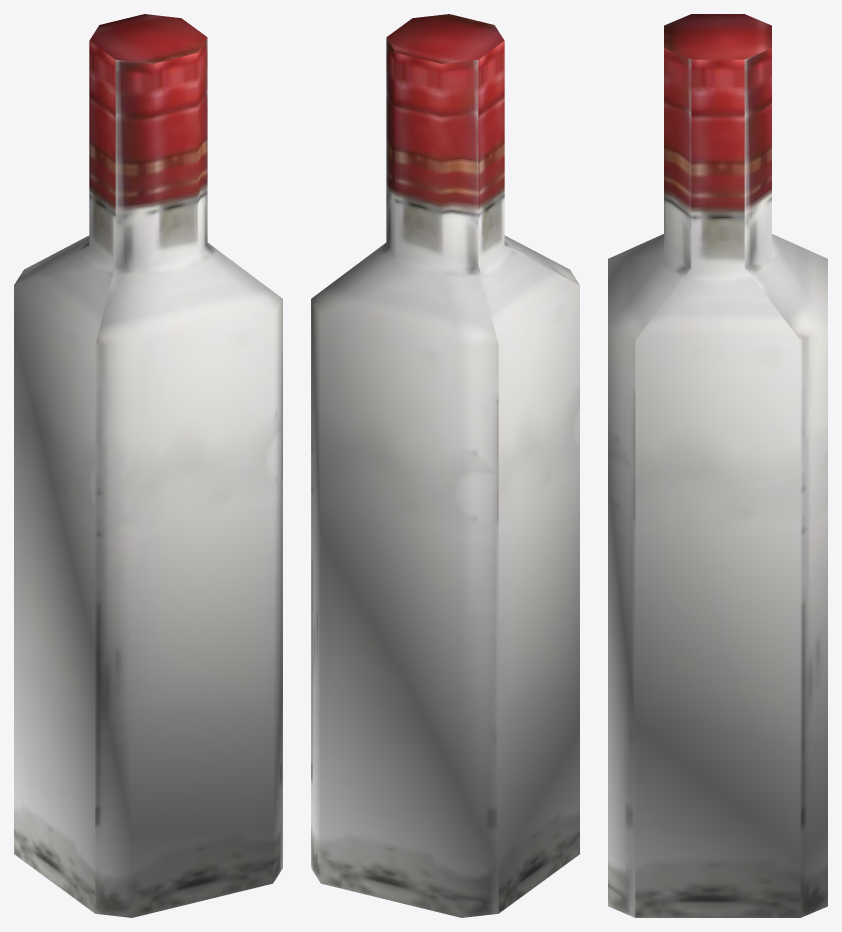
Rendered from vodka.FBX.
3 renders of one model, left to right at view 1: azimuth 30°, elevation 25°; view 2: azimuth 150°, elevation 25°; view 3: azimuth 270°, elevation 25°, orthographic.
Visible parts, largest first — view 1: vodka_bottle; view 2: vodka_bottle; view 3: vodka_bottle.
Part boxes in pixels (<box>): vodka_bottle: <box>14,14,282,917</box>; vodka_bottle: <box>311,14,579,917</box>; vodka_bottle: <box>608,14,827,917</box>.
Size of the model in its own units: 11.9 by 49.83 by 11.9.
